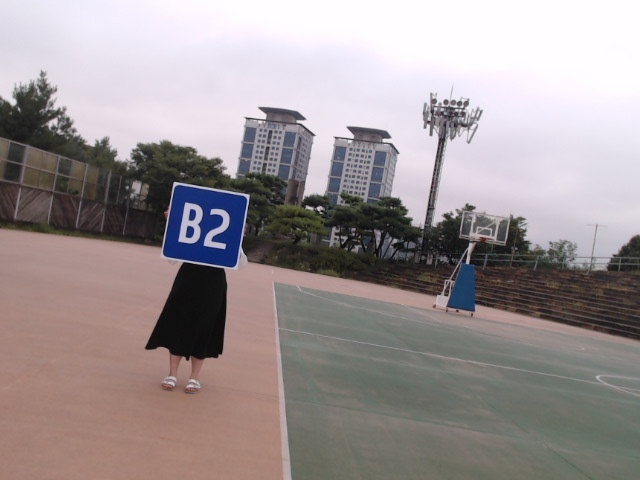delivery_b2: (162, 184, 249, 269)
